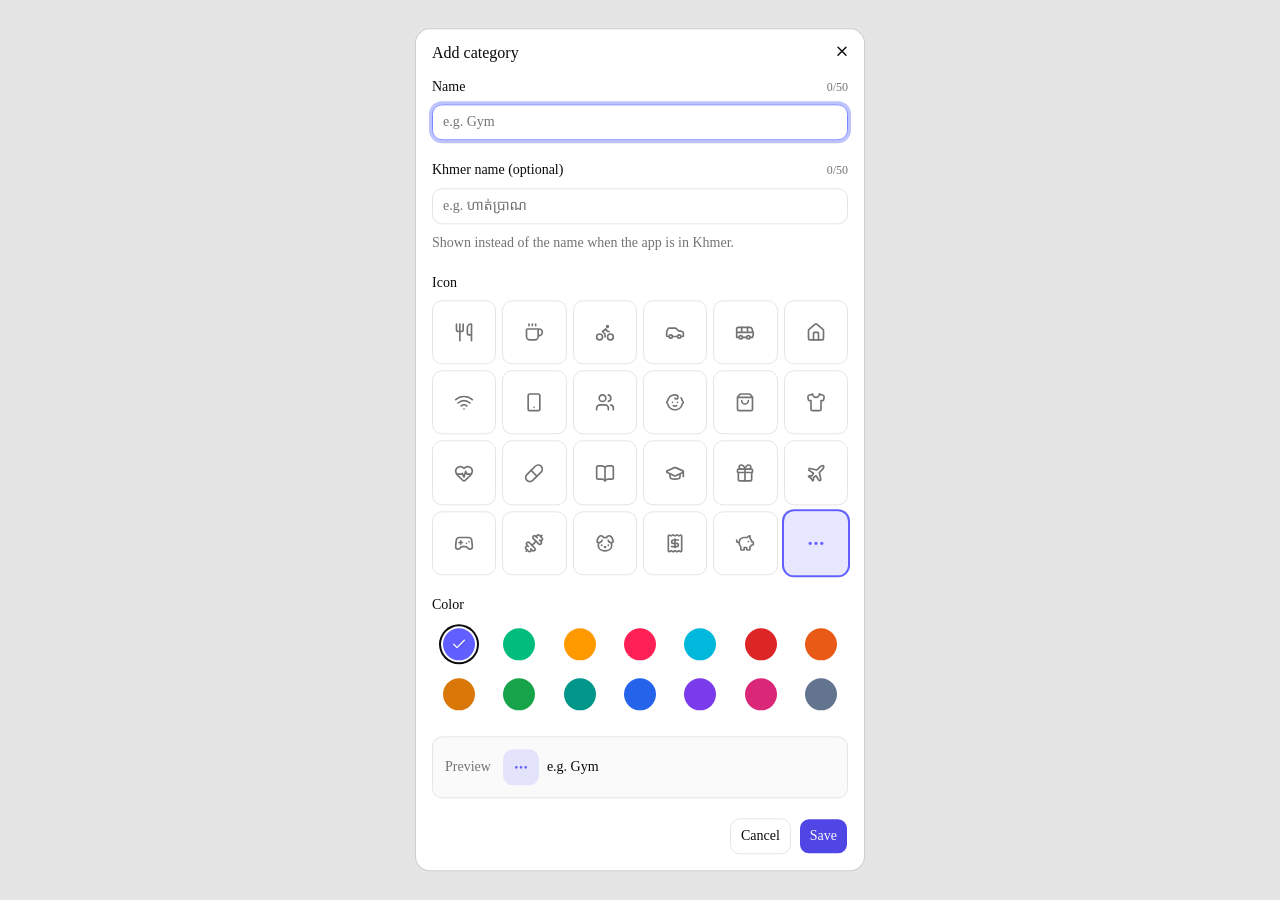
it: CategoryFormDialog › shows translated validation messages
Click the button "Save" at coordinates (823, 837), box [799,819,848,855]
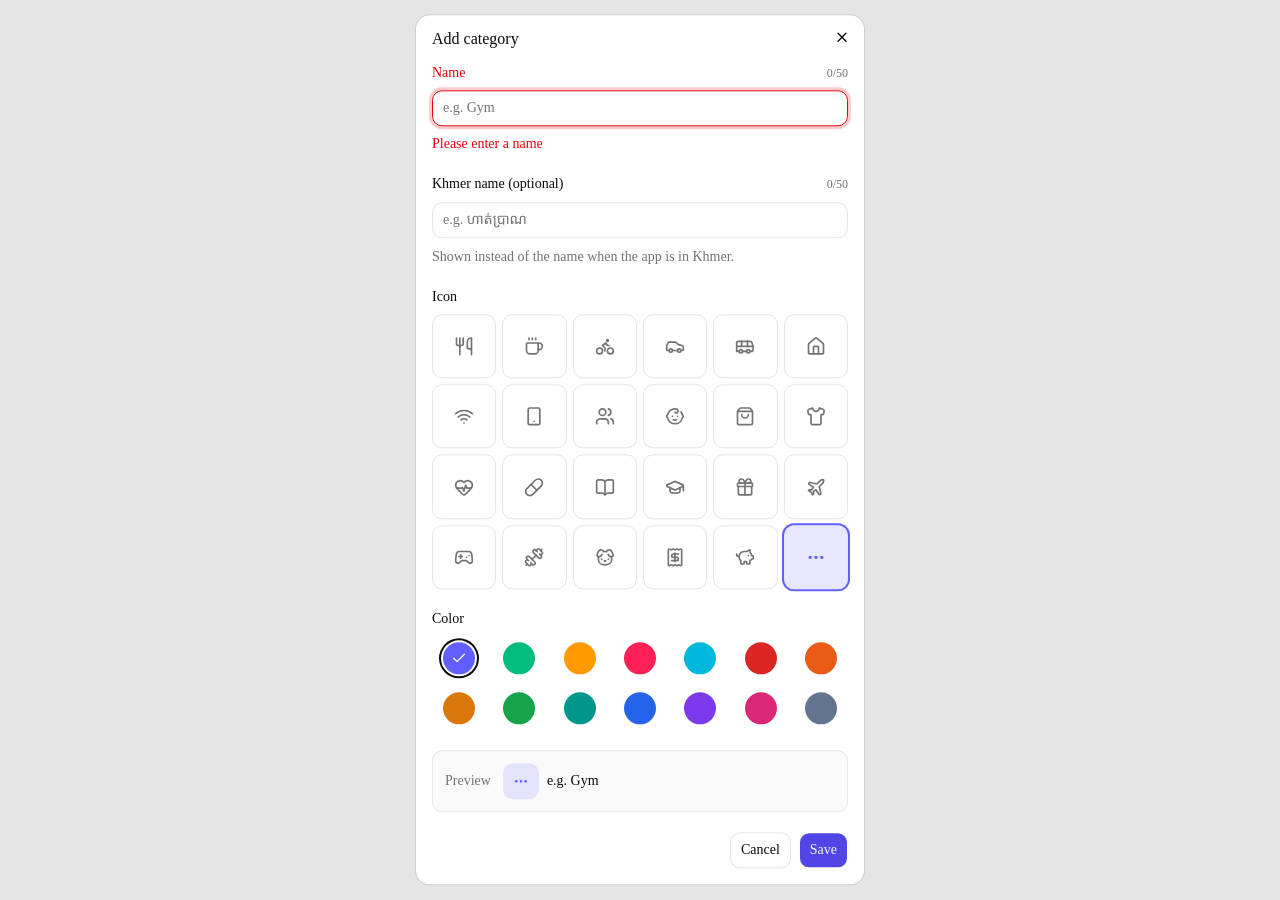
Expected: the text "Please enter a name" is shown, [432,137,543,152]
